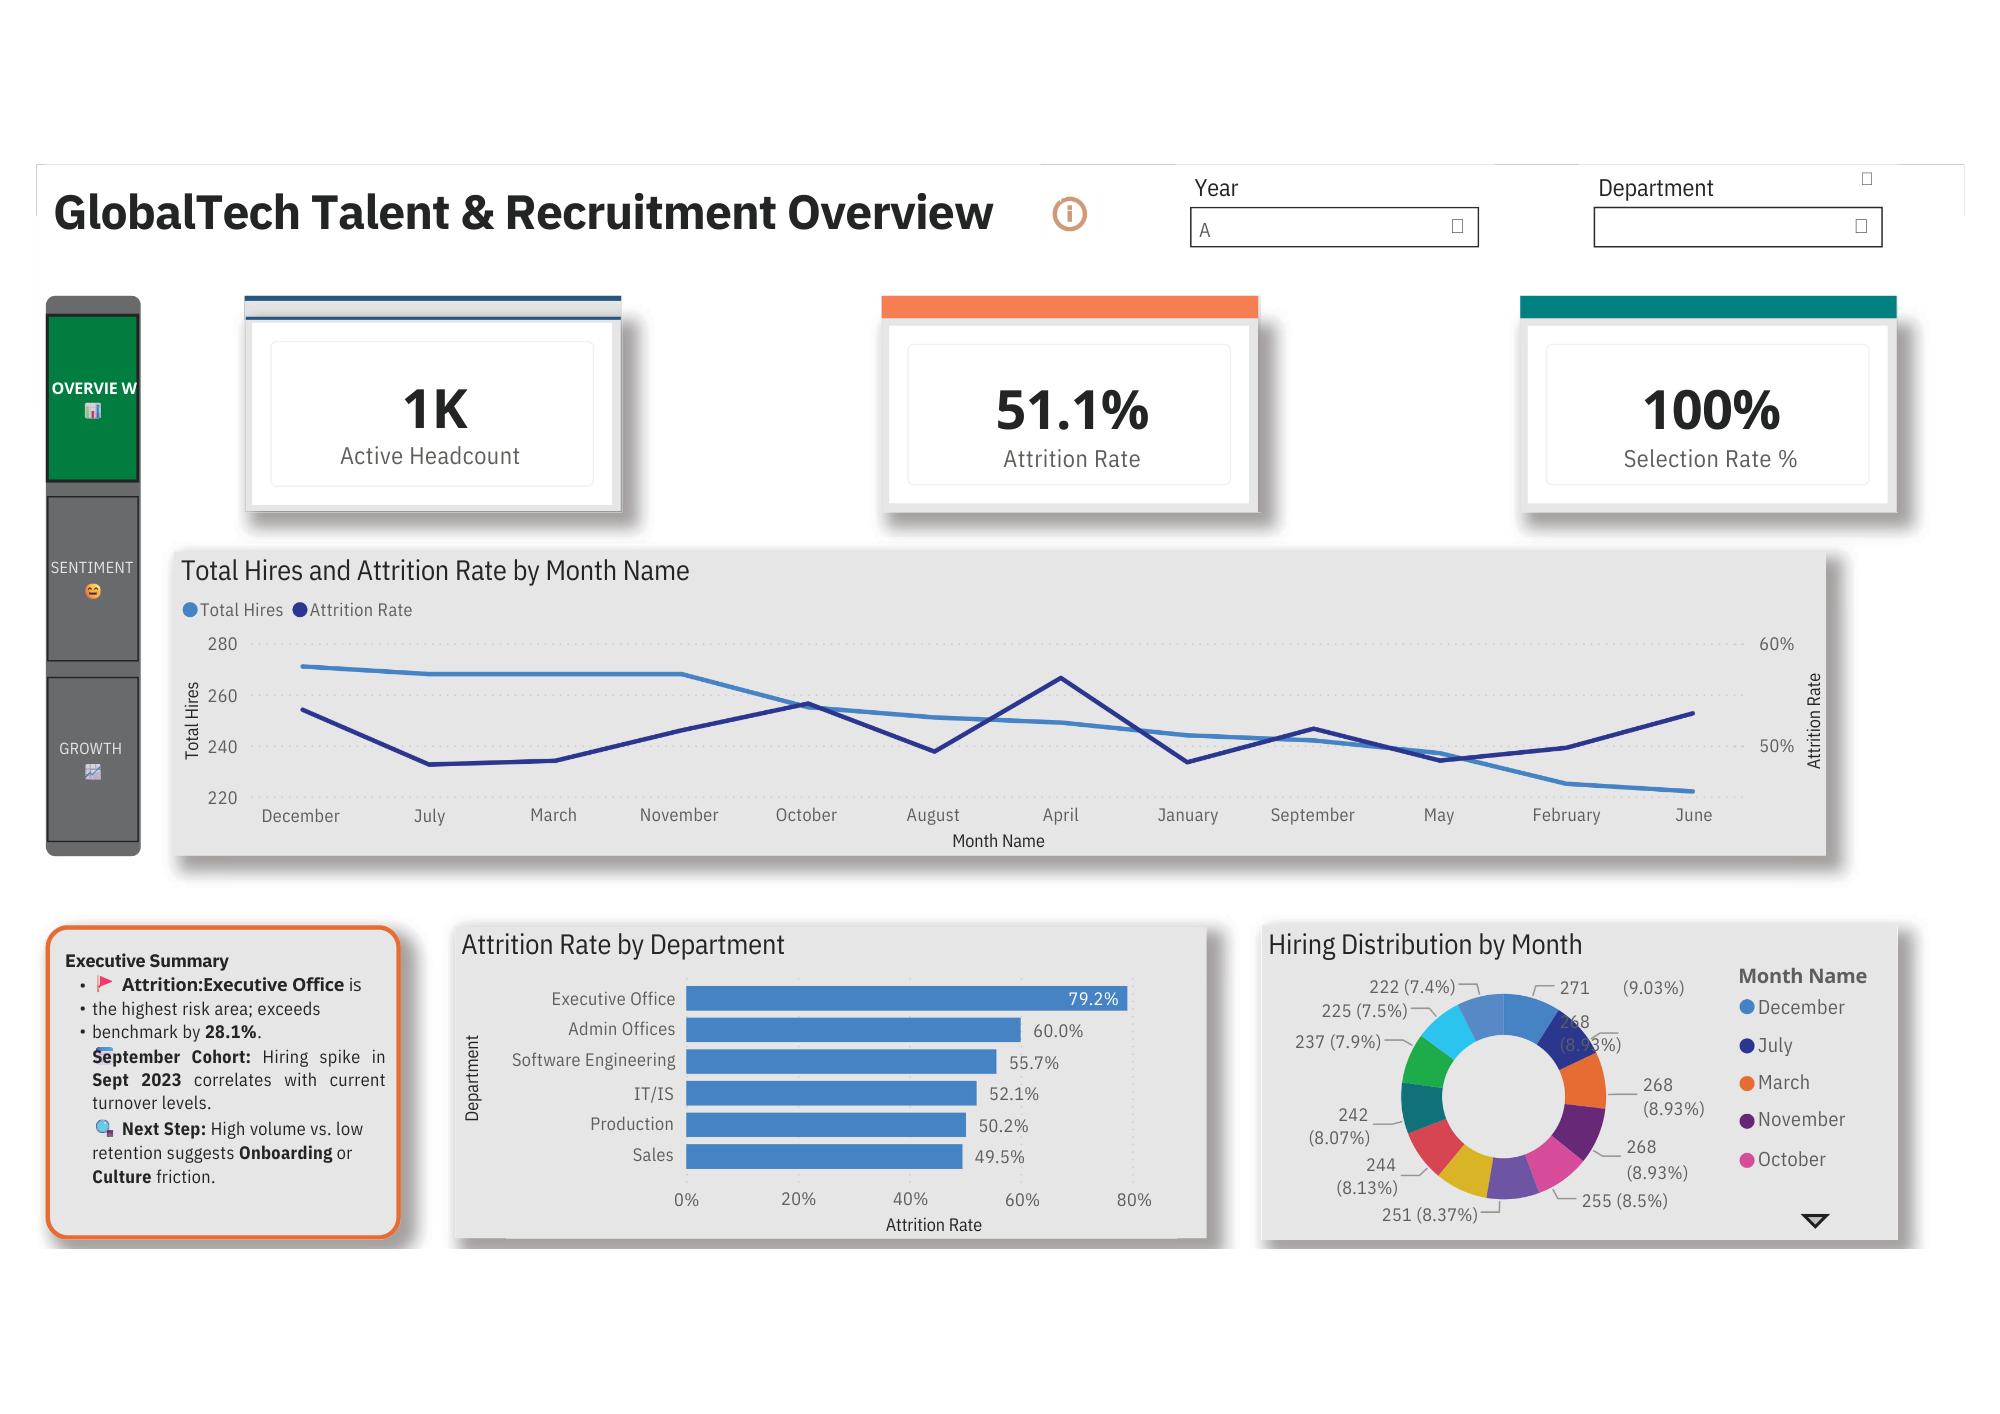

This screenshot's page, from the dashboard's own definition file:
{"tool":"powerbi","page":{"name":"OVERVIEW 📊","canvas":[1280,720],"ordinal":0},"visuals":[{"type":"slicer","fields":{"Values":["employee_data.Department Type"]},"box":[1024.3,0,211.7,75.6],"z":0},{"type":"cardVisual","fields":{"Data":["_Measures (2).Active Headcount"]},"box":[138,99.5,250.8,131],"z":0,"group":"g1"},{"type":"cardVisual","fields":{"Data":["_Measures (2).Attrition Rate"]},"box":[561.3,102.3,250.8,128.2],"z":1000,"group":"g2"},{"type":"clusteredBarChart","fields":{"Category":["employee_data.Department Type"],"Y":["_Measures (2).Attrition Rate"]},"box":[276.9,504.6,500.8,209.8],"z":1000},{"type":"cardVisual","fields":{"Data":["_Measures (2).Selection Rate %"]},"box":[984.6,102.3,250.8,128.2],"z":2000,"group":"g3"},{"type":"donutChart","title":"Hiring Distribution by Month","fields":{"Category":["Dim_Calendar.Month Name"],"Y":["CountNonNull(employee_data.Employee ID)"]},"box":[812.6,504.6,423.3,209.8],"z":2000},{"type":"textbox","box":[6,0,660.8,73.1],"z":3000},{"type":"slicer","fields":{"Values":["Dim_Calendar.Year"]},"box":[756.4,0,211.7,75.6],"z":4000},{"type":"group","id":"g1","title":"Group 1","box":[138,86.9,251.3,143.6],"z":5000},{"type":"group","id":"g2","title":"Group 2","box":[561.3,86.9,251.3,143.6],"z":6000},{"type":"group","id":"g3","title":"Group 3","box":[984.6,86.9,251.3,143.6],"z":7000},{"type":"shape","box":[138,86.9,250.8,15.8],"z":8000,"group":"g1"},{"type":"lineChart","fields":{"Y":["_Measures (2).Total Hires"],"Category":["Dim_Calendar.Month Name"],"Y2":["_Measures (2).Attrition Rate"]},"box":[91,257,1098,202.2],"z":8000},{"type":"shape","box":[561.3,86.9,250.8,15.4],"z":8001,"group":"g2"},{"type":"shape","box":[984.6,86.9,250.8,15.4],"z":8002,"group":"g3"},{"type":"shape","box":[6,86.5,64.1,372.9],"z":9000},{"type":"pageNavigator","box":[7.5,99.9,61.2,350.6],"z":10000},{"type":"textbox","box":[5.7,504.6,236.2,209.8],"z":11000},{"type":"actionButton","box":[667.9,17.4,36.3,31.6],"z":11001}]}

Visuals, with their boxes on the page's 1280x720 design canvas (x1, y1, x2, y2). These are canvas units, not pixel positions in the 2000x1414 screenshot, which may show the page scaled, cropped or inside an application window:
slicer - employee_data.Department Type: (1024,0,1236,76)
cardVisual - _Measures (2).Active Headcount: (138,100,389,230)
cardVisual - _Measures (2).Attrition Rate: (561,102,812,230)
clusteredBarChart - employee_data.Department Type x _Measures (2).Attrition Rate: (277,505,778,714)
cardVisual - _Measures (2).Selection Rate %: (985,102,1235,230)
"Hiring Distribution by Month" donutChart: (813,505,1236,714)
textbox: (6,0,667,73)
slicer - Dim_Calendar.Year: (756,0,968,76)
"Group 1" group: (138,87,389,230)
"Group 2" group: (561,87,813,230)
"Group 3" group: (985,87,1236,230)
shape: (138,87,389,103)
lineChart - _Measures (2).Total Hires x Dim_Calendar.Month Name: (91,257,1189,459)
shape: (561,87,812,102)
shape: (985,87,1235,102)
shape: (6,86,70,459)
pageNavigator: (8,100,69,450)
textbox: (6,505,242,714)
actionButton: (668,17,704,49)
